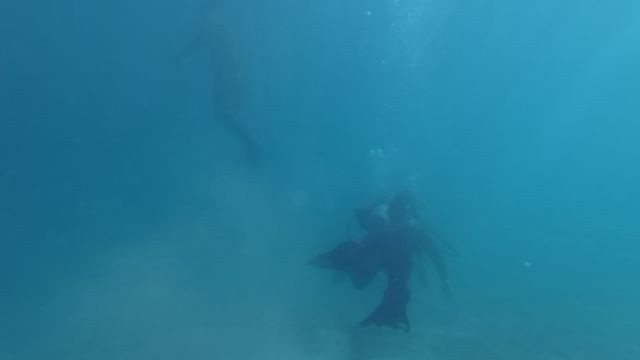Diver: (310, 183, 470, 343)
